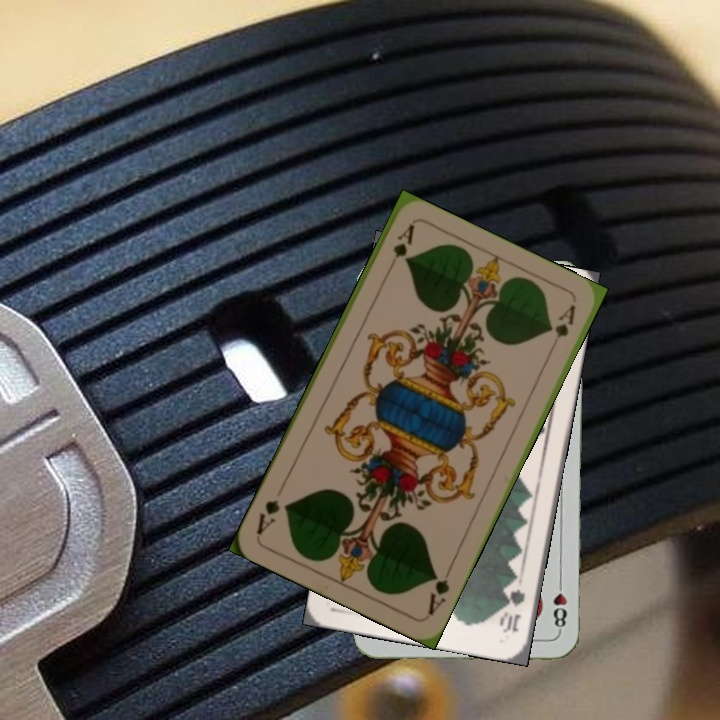G10: (498, 585, 528, 635)
GA: (383, 221, 417, 276), (424, 562, 455, 619)
H8: (549, 575, 569, 634)
